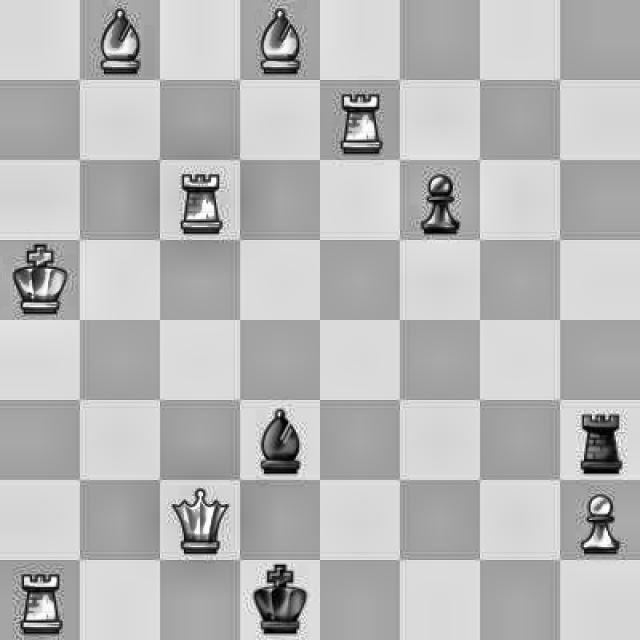black bishop: (248, 405, 308, 472)
black king: (243, 556, 311, 638)
black pawn: (408, 158, 471, 238)
black rook: (564, 406, 634, 479)
white bishop: (84, 0, 152, 81), (246, 0, 307, 77)
white king: (10, 241, 75, 323)
white pawn: (566, 486, 633, 564)
white queen: (175, 478, 230, 558)
white rook: (167, 167, 229, 240), (18, 568, 72, 640), (340, 84, 389, 156)
